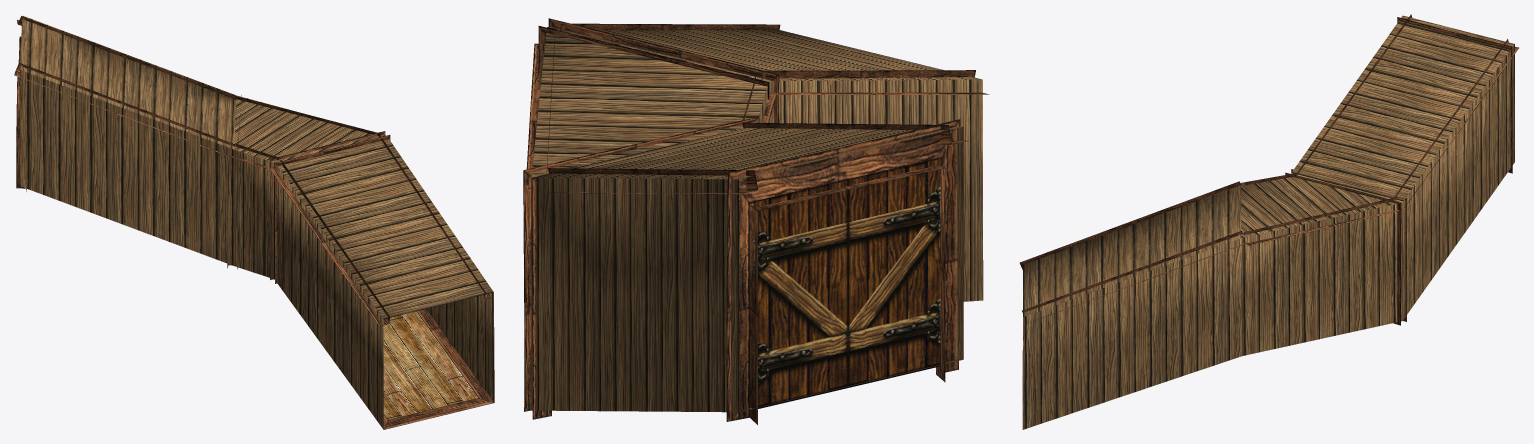
Rendered from LAKETOWN_WAREHOUSE3_PS_WH3_ENTHALL3424__GX.fbx.
The picture shows the model from 3 angles, left to right: view 1: azimuth 30°, elevation 25°; view 2: azimuth 150°, elevation 25°; view 3: azimuth 270°, elevation 25°; orthographic projection. The views are drawn at different scales.
Visible parts, largest first — view 1: LAKETOWN_WAREHOUSE3_PS_WH3_ENTHALL3424__GX; view 2: LAKETOWN_WAREHOUSE3_PS_WH3_ENTHALL3424__GX; view 3: LAKETOWN_WAREHOUSE3_PS_WH3_ENTHALL3424__GX.
Boxes of the visible parts, <box> form: LAKETOWN_WAREHOUSE3_PS_WH3_ENTHALL3424__GX: <box>14,15,494,429</box>; LAKETOWN_WAREHOUSE3_PS_WH3_ENTHALL3424__GX: <box>523,18,989,424</box>; LAKETOWN_WAREHOUSE3_PS_WH3_ENTHALL3424__GX: <box>1019,14,1518,429</box>.
Size of the model in its own units: 79609 by 69529 by 114752.
5 materials, 5 textured.
